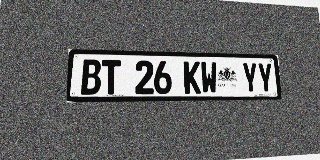2: (135, 60, 154, 94)
6: (154, 61, 172, 94)
B: (81, 59, 101, 95)
K: (183, 61, 201, 94)
T: (101, 60, 121, 95)
W: (200, 62, 218, 94)
Y: (257, 63, 274, 93), (242, 62, 258, 93)
